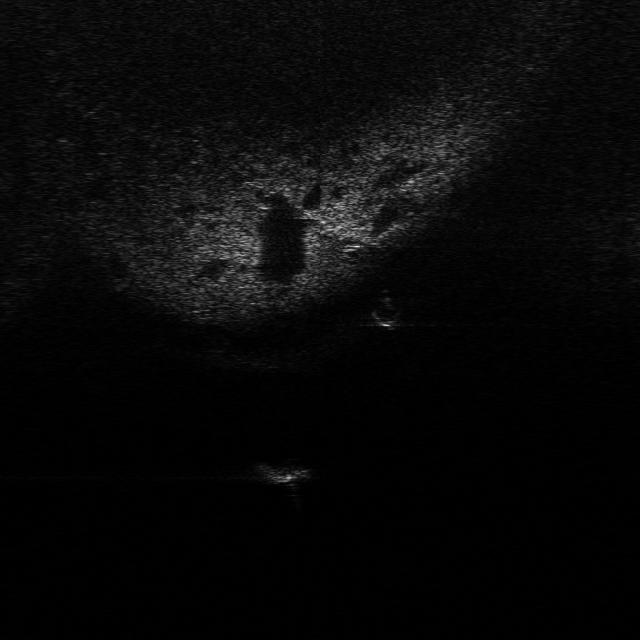ball: (364, 301, 404, 326)
cube: (249, 459, 317, 487)
